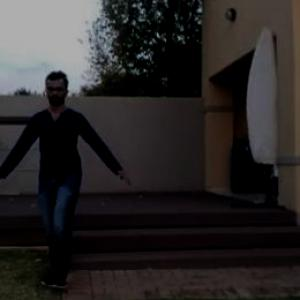land: (0, 69, 140, 297)
